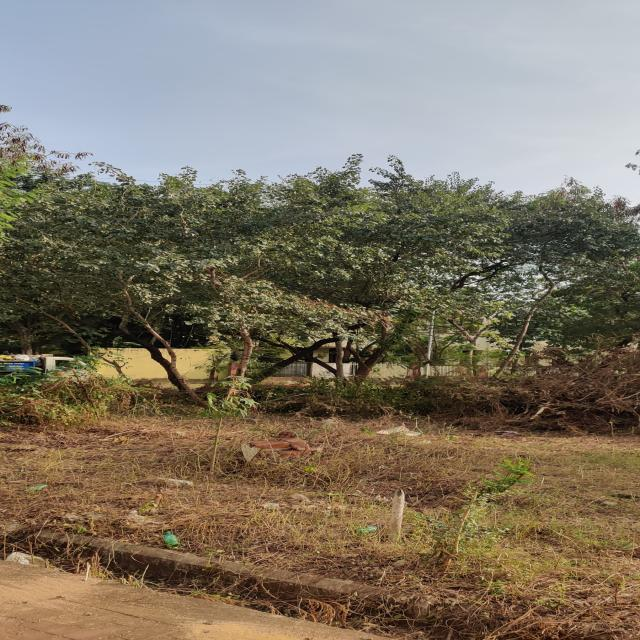Devakanchan tree: (17, 178, 497, 331)
